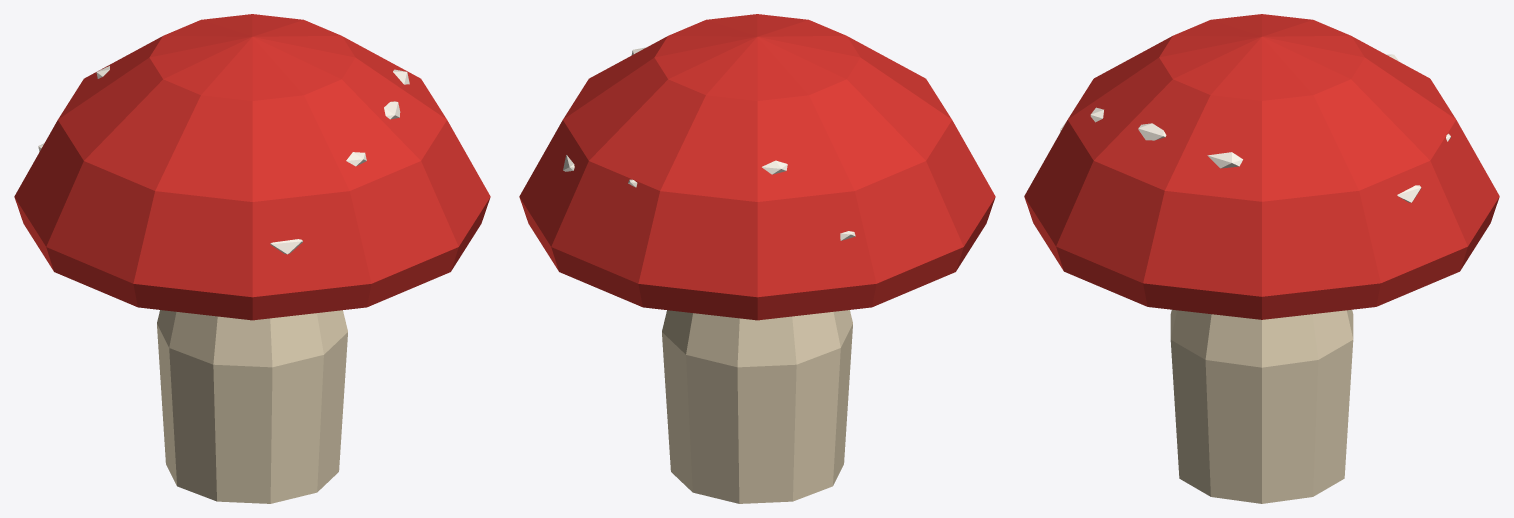
The model's file is nat_mushroom_big_v01.glb.
The picture shows the model from 3 angles, left to right: view 1: azimuth 30°, elevation 25°; view 2: azimuth 150°, elevation 25°; view 3: azimuth 270°, elevation 25°; orthographic projection.
Parts seen in each view (by area): view 1: mushroom_big; view 2: mushroom_big; view 3: mushroom_big.
Part boxes in pixels (bbox=[...]): mushroom_big: bbox=[14, 14, 490, 503]; mushroom_big: bbox=[519, 14, 995, 503]; mushroom_big: bbox=[1024, 14, 1499, 503].
Size of the model in its own units: 1.2 by 1.2 by 1.2.
